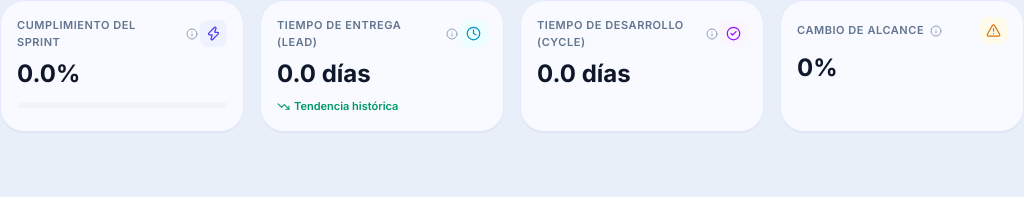
Scenario: LiderKpiCards Component › toggles tooltips on click
Check: the text "Puntos de Historia entregados en relación a la meta del Sprint" is not shown
Note: First button is for velocity
Click the button without text next to "Cumplimiento del Sprint". click: (192, 34)
box: [184,26,200,42]
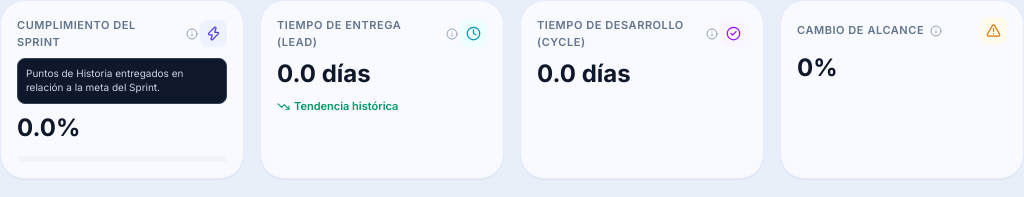
Check: the text "Puntos de Historia entregados en relación a la meta del Sprint" is shown, box [26,67,183,93]
Note: Click again to hide
Click the button without text next to "Cumplimiento del Sprint". click: (192, 34)
box: [184,26,200,42]
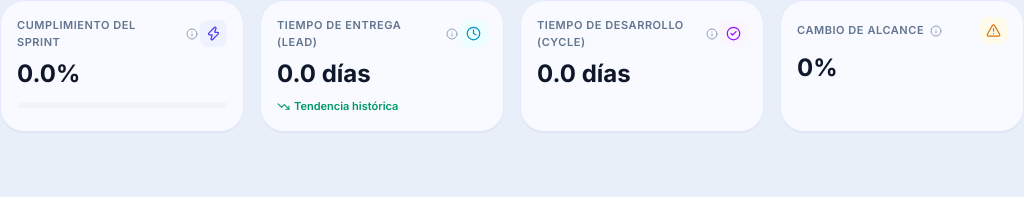
Check: the text "Puntos de Historia entregados en relación a la meta del Sprint" is gone
